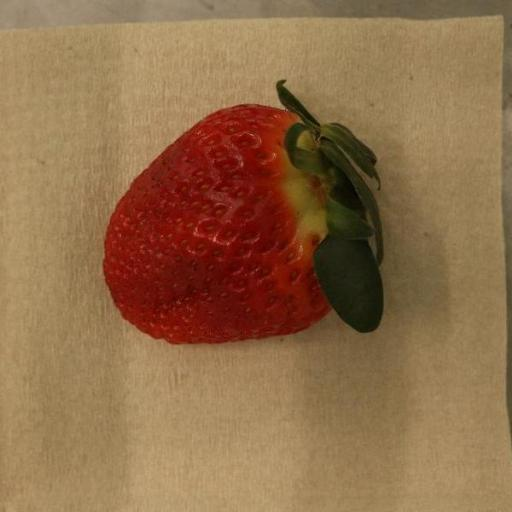Strawberry: (104, 81, 386, 345)
